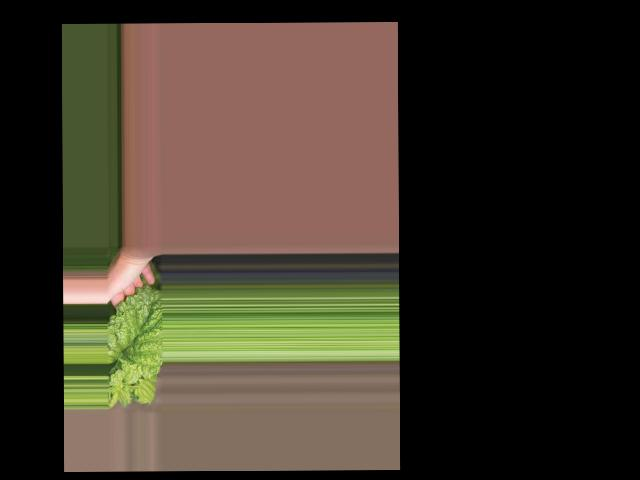lettuce: (106, 289, 162, 415)
